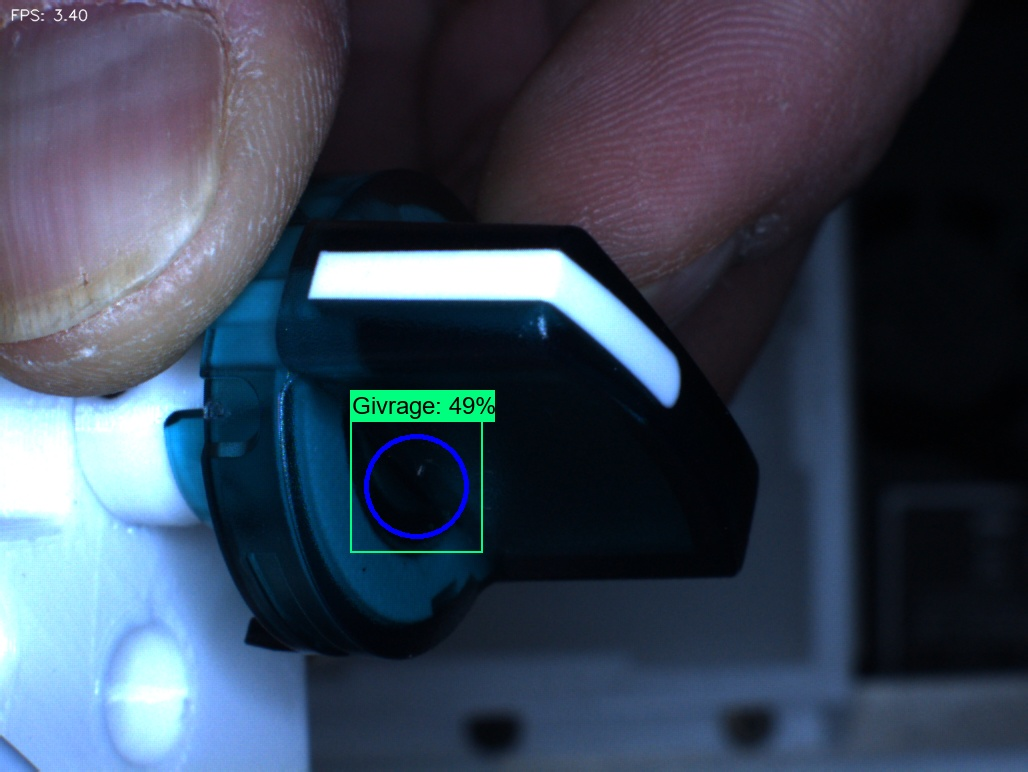PointNoir: (329, 535, 399, 608)
